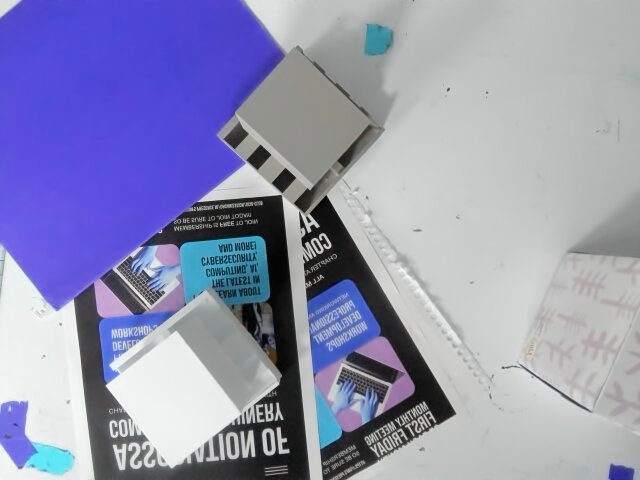grey pallet: (216, 27, 389, 218)
white pallet: (100, 285, 283, 469)
